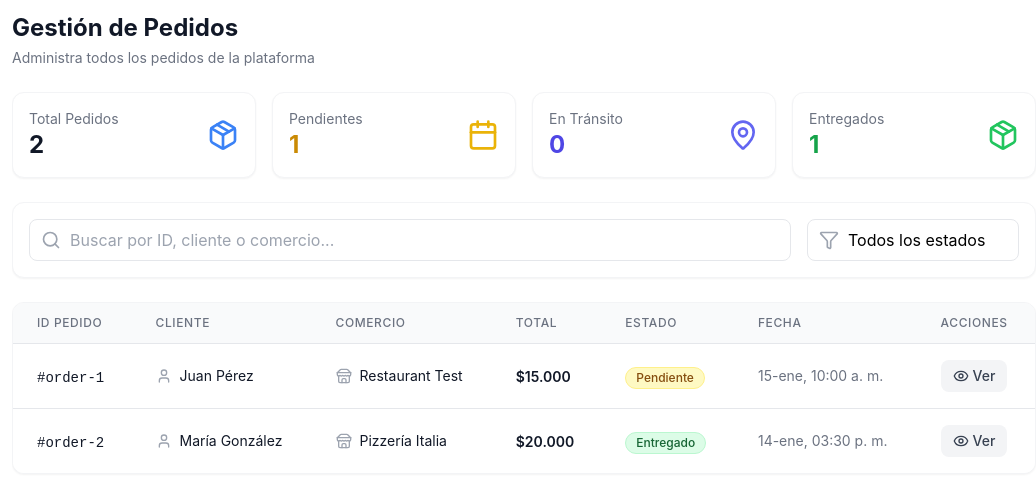
Orders Component › Filtros › debe filtrar pedidos por estado
This screenshot has width=1036, height=491.
Expected: the text "Restaurant Test" is shown, left=360, top=366, right=463, bottom=386
Select "Pendiente" in the dropdown at (913,240), box left=807, top=219, right=1019, bottom=261
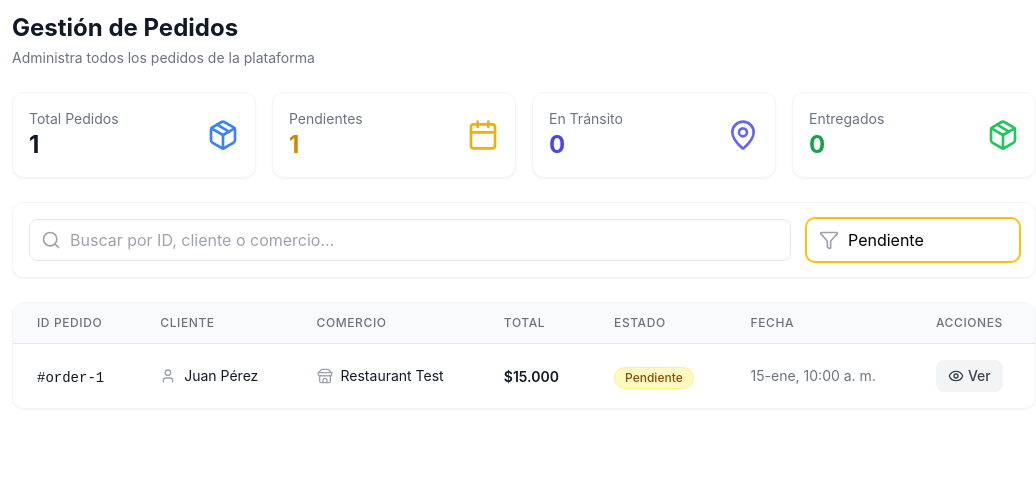
Expected: the text "Restaurant Test" is shown, left=340, top=366, right=444, bottom=386
Expected: the text "Pizzería Italia" is gone
